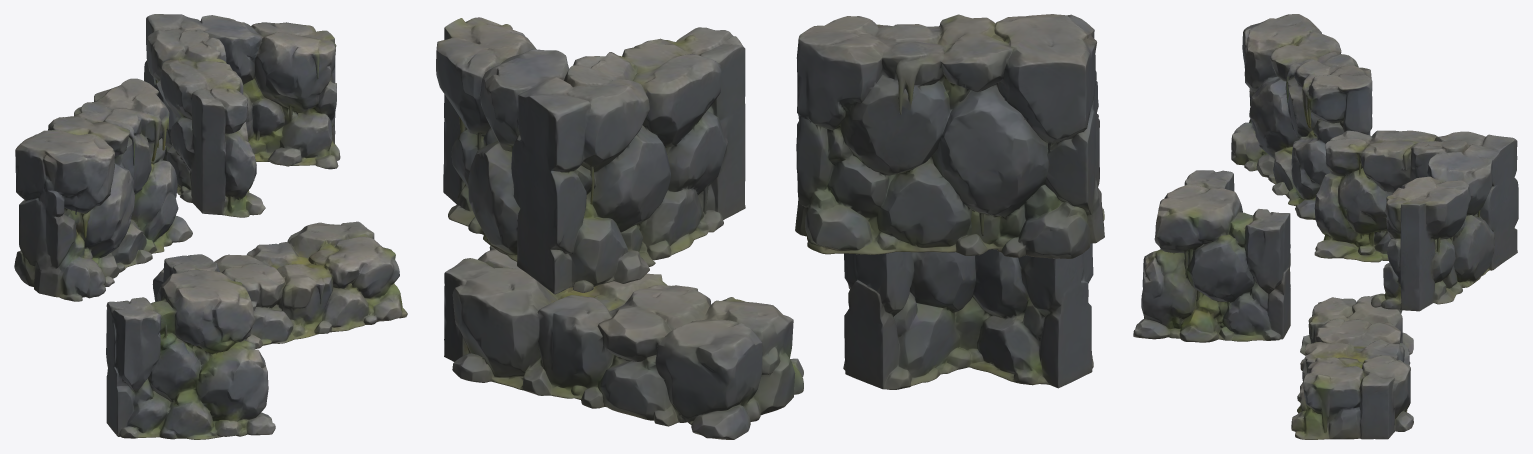
The model's file is muro_piedra.glb.
3 renders of one model, left to right at view 1: azimuth 30°, elevation 25°; view 2: azimuth 150°, elevation 25°; view 3: azimuth 270°, elevation 25°, orthographic. The views are drawn at different scales.
Parts seen in each view (by area): view 1: tripo_node_5fed5bd2-440f-4463-92a2-40113d62f8e2; view 2: tripo_node_5fed5bd2-440f-4463-92a2-40113d62f8e2; view 3: tripo_node_5fed5bd2-440f-4463-92a2-40113d62f8e2.
Boxes of the visible parts, box(x1,y1,x2,y2) form: tripo_node_5fed5bd2-440f-4463-92a2-40113d62f8e2: box(14, 14, 407, 439); tripo_node_5fed5bd2-440f-4463-92a2-40113d62f8e2: box(436, 14, 1104, 439); tripo_node_5fed5bd2-440f-4463-92a2-40113d62f8e2: box(1133, 14, 1518, 439).
Bounding box in the file's own units: 1 × 0.6474 × 0.9053.
1 material, 1 textured.
